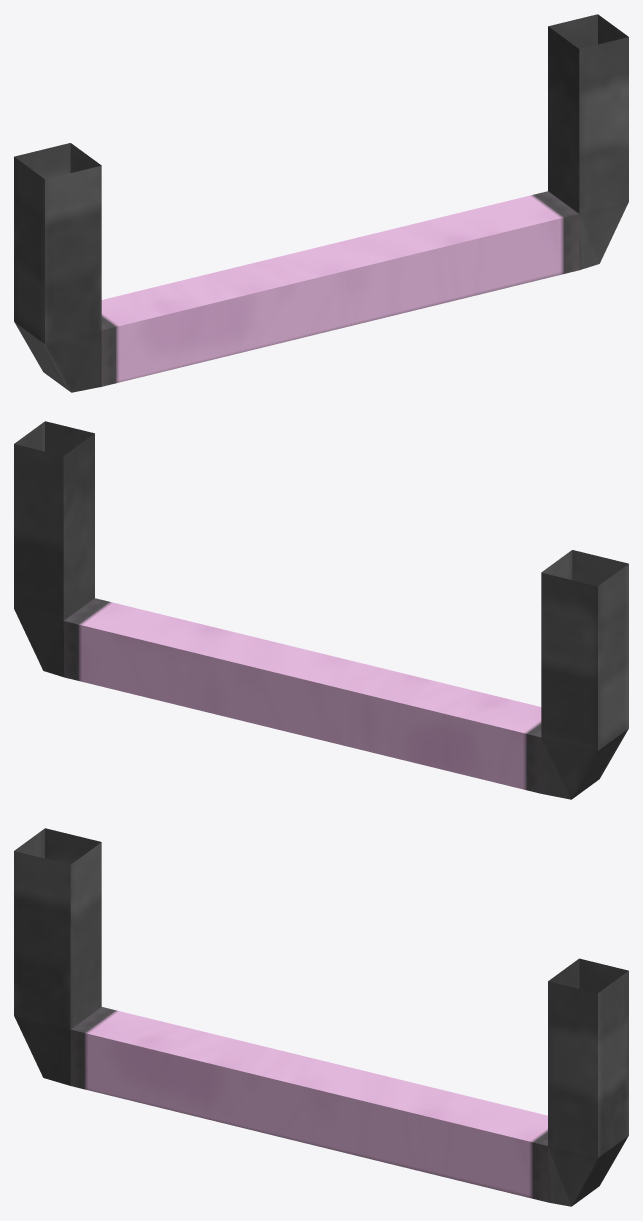
File: lightbar.obj
3 renders of one model, top to bottom at view 1: azimuth 30°, elevation 25°; view 2: azimuth 150°, elevation 25°; view 3: azimuth 330°, elevation 25°, orthographic.
Visible parts, largest first — view 1: Cube.001; view 2: Cube.001; view 3: Cube.001.
Boxes of the visible parts, box(x1,y1,x2,y2) form: Cube.001: box(14, 14, 628, 392); Cube.001: box(14, 421, 628, 799); Cube.001: box(14, 828, 628, 1206).
Size of the model in its own units: 7.47 by 2.71 by 0.6902.
